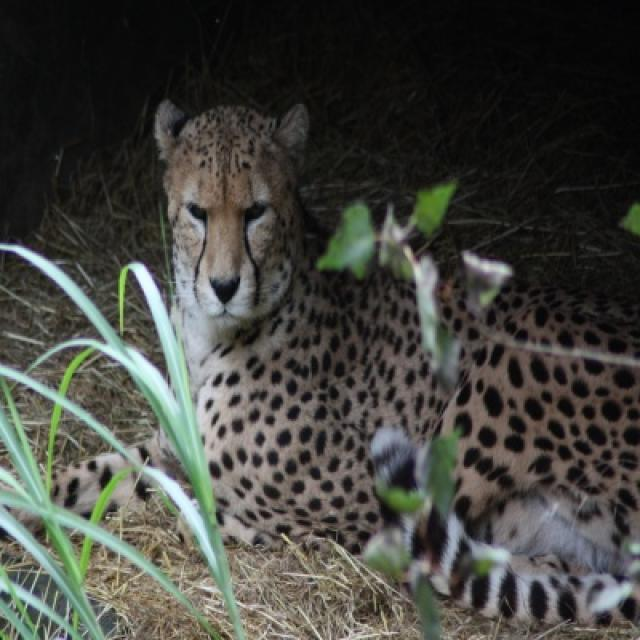Cheetah: (10, 102, 638, 621)
